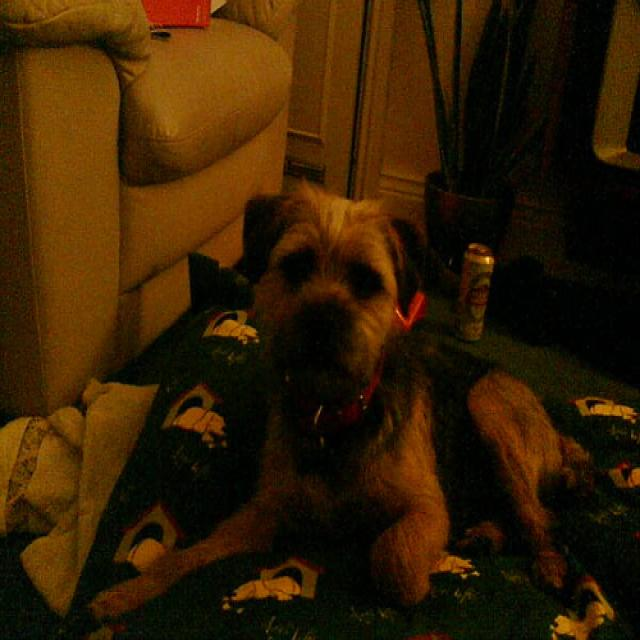Dog: (129, 150, 640, 621)
